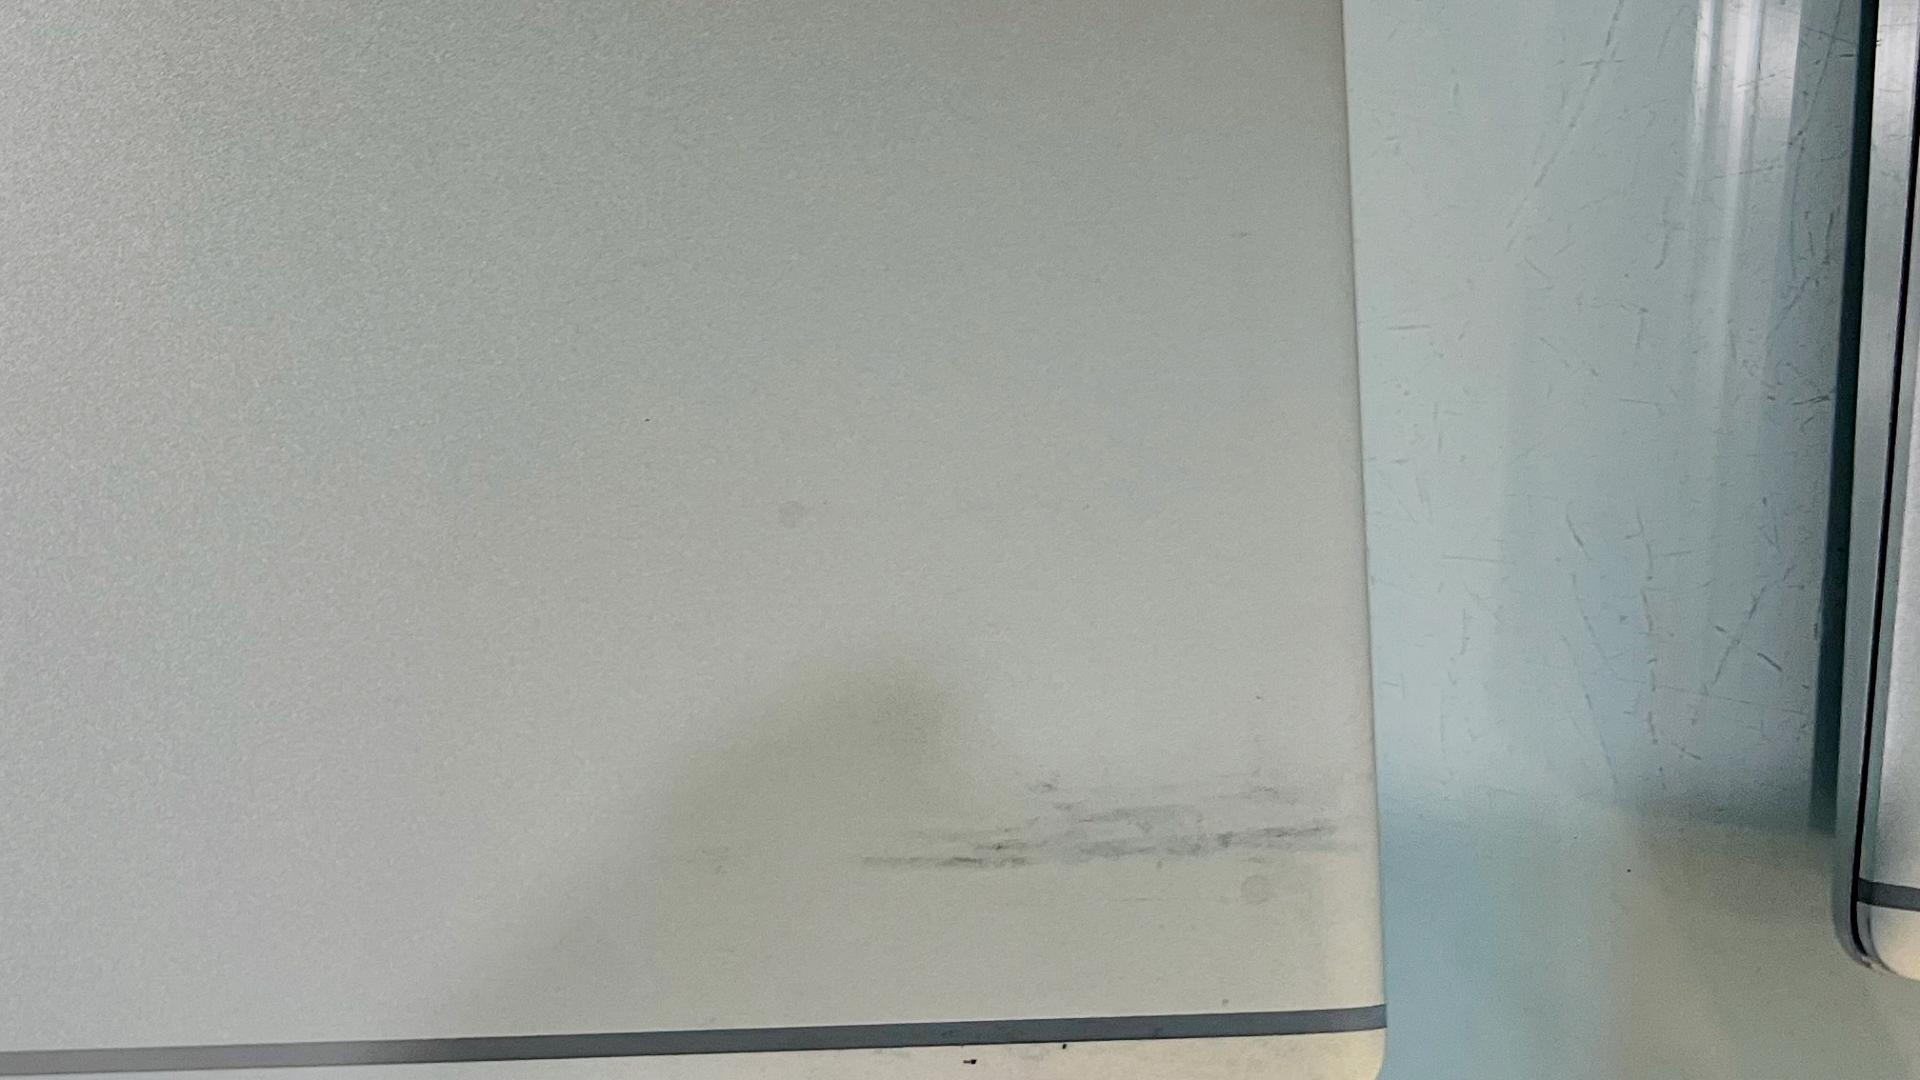scratches: (963, 1058, 980, 1065), (1062, 1042, 1068, 1050)
